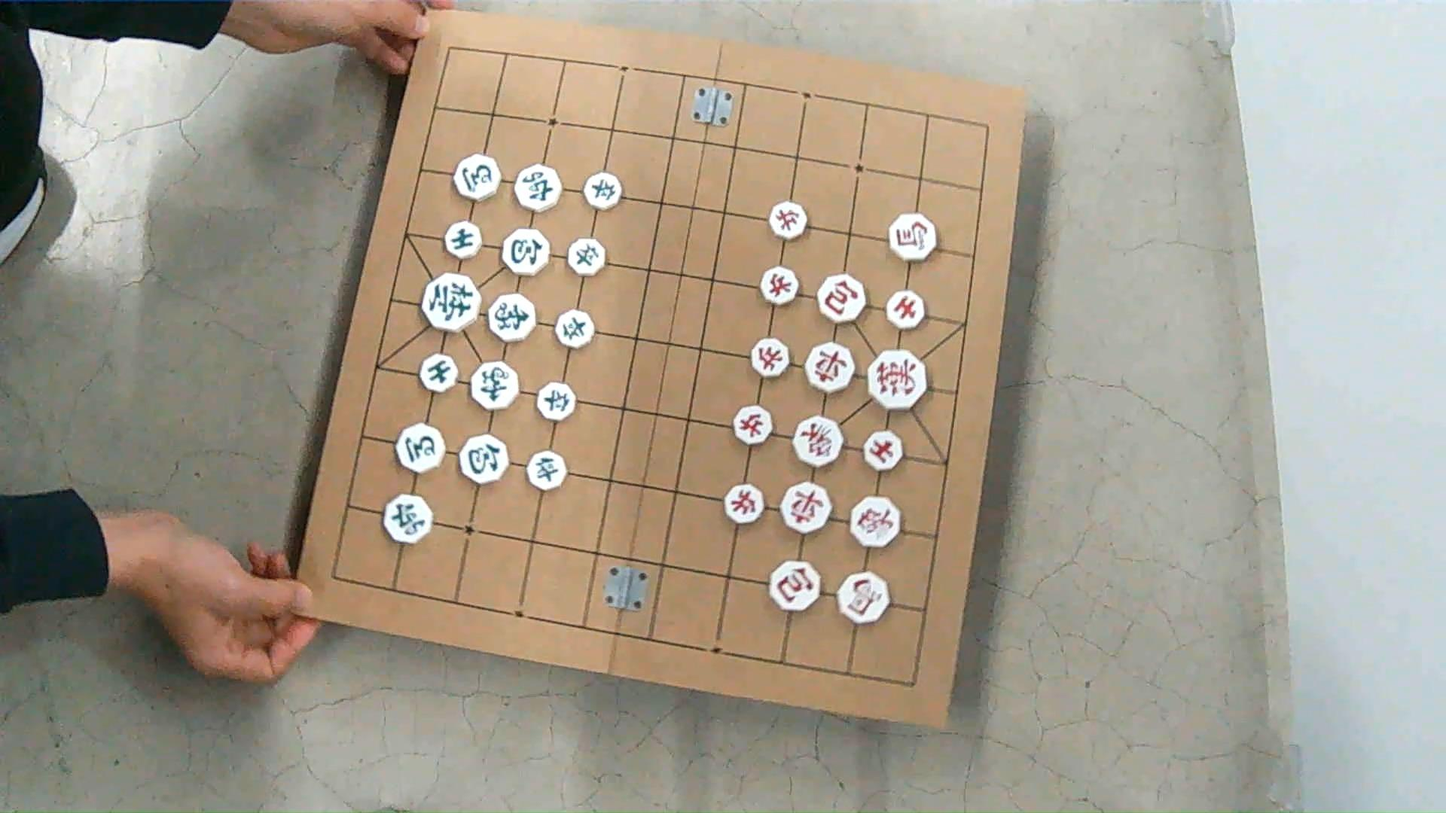cha_green: (385, 495, 432, 544), (515, 164, 561, 212)
cha_red: (781, 483, 831, 533), (805, 343, 854, 393)
jol_green: (527, 451, 566, 490), (537, 382, 575, 420), (556, 310, 593, 348), (568, 239, 605, 276), (584, 172, 621, 209)
jol_red: (723, 484, 764, 524), (760, 266, 798, 305), (752, 339, 789, 378), (734, 406, 771, 445), (770, 201, 807, 239)
ma_green: (395, 423, 444, 472), (453, 154, 500, 200)
ma_red: (837, 572, 888, 623), (889, 214, 936, 261)
po_green: (459, 435, 506, 483), (502, 228, 548, 276)
po_red: (768, 561, 819, 611), (818, 276, 865, 322)
sa_green: (444, 221, 480, 260), (420, 354, 457, 391)
sa_red: (863, 431, 902, 470), (886, 291, 925, 329)
sang_green: (470, 361, 517, 410), (487, 294, 535, 341)
sang_red: (793, 416, 843, 467), (850, 497, 900, 547)
wang_green: (422, 273, 480, 331)
wang_red: (868, 349, 927, 410)
